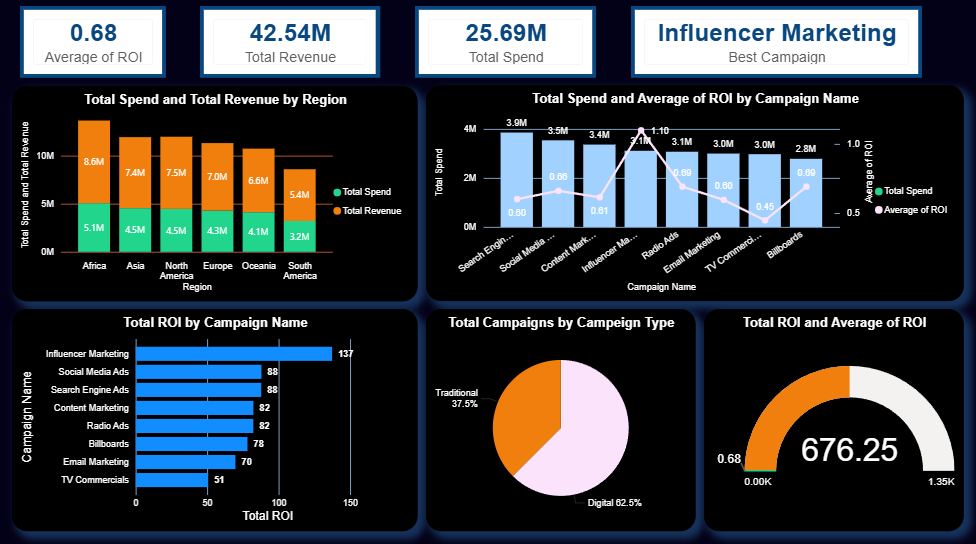

This screenshot's page, from the dashboard's own definition file:
{"tool":"powerbi","page":{"name":"Campaign Performance Overview","canvas":[1280,720],"ordinal":0},"visuals":[{"type":"columnChart","fields":{"Y":["marketing campaign performance.Total Spend","marketing campaign performance.Total Revenue"],"Category":["region performance.Region"]},"box":[17.9,114.9,531.3,282.1],"z":0},{"type":"lineClusteredColumnComboChart","fields":{"Y":["marketing campaign performance.Total Spend"],"Category":["Marketing Campaign Details.Campaign Name"],"Y2":["Avg(marketing campaign performance.ROI)"]},"box":[560,114.3,704.3,282.9],"z":1000},{"type":"barChart","fields":{"Category":["Marketing Campaign Details.Campaign Name"],"Y":["Marketing Campaign Details.Total ROI"]},"box":[17.9,407.5,531.3,291],"z":2000},{"type":"pieChart","title":" Total Campaigns by Campeign Type","fields":{"Category":["Marketing Campaign Details.Campeign Type"],"Y":["CountNonNull(Marketing Campaign Details.Tota lCampaigns)"]},"box":[560,407.1,352.9,291.4],"z":3000},{"type":"gauge","fields":{"TargetValue":["Avg(marketing campaign performance.ROI)"],"Y":["Marketing Campaign Details.Total ROI"]},"box":[924.3,407.1,340,291.4],"z":4000},{"type":"cardVisual","fields":{"Data":["marketing campaign performance.Total Revenue"]},"box":[264.3,10,235.7,94.3],"z":5000},{"type":"cardVisual","fields":{"Data":["Avg(marketing campaign performance.ROI)"]},"box":[28.6,10,191.4,94.3],"z":6000},{"type":"cardVisual","fields":{"Data":["marketing campaign performance.Total Spend"]},"box":[545.7,10,237.1,94.3],"z":7000},{"type":"cardVisual","fields":{"Data":["Marketing Campaign Details.Best Campeign"]},"box":[828.6,10,381.4,94.3],"z":8000}]}

Visuals, with their boxes in screenshot pixels (x1, y1, x2, y2), scaled from the page's 1280x720 canvas onto the 976x544 screenshot:
columnChart - marketing campaign performance.Total Spend x marketing campaign performance.Total Revenue: [left=14, top=87, right=419, bottom=300]
lineClusteredColumnComboChart - marketing campaign performance.Total Spend x Marketing Campaign Details.Campaign Name: [left=427, top=86, right=964, bottom=300]
barChart - Marketing Campaign Details.Campaign Name x Marketing Campaign Details.Total ROI: [left=14, top=308, right=419, bottom=528]
" Total Campaigns by Campeign Type" pieChart: [left=427, top=308, right=696, bottom=528]
gauge - Avg(marketing campaign performance.ROI) x Marketing Campaign Details.Total ROI: [left=705, top=308, right=964, bottom=528]
cardVisual - marketing campaign performance.Total Revenue: [left=202, top=8, right=381, bottom=79]
cardVisual - Avg(marketing campaign performance.ROI): [left=22, top=8, right=168, bottom=79]
cardVisual - marketing campaign performance.Total Spend: [left=416, top=8, right=597, bottom=79]
cardVisual - Marketing Campaign Details.Best Campeign: [left=632, top=8, right=923, bottom=79]
